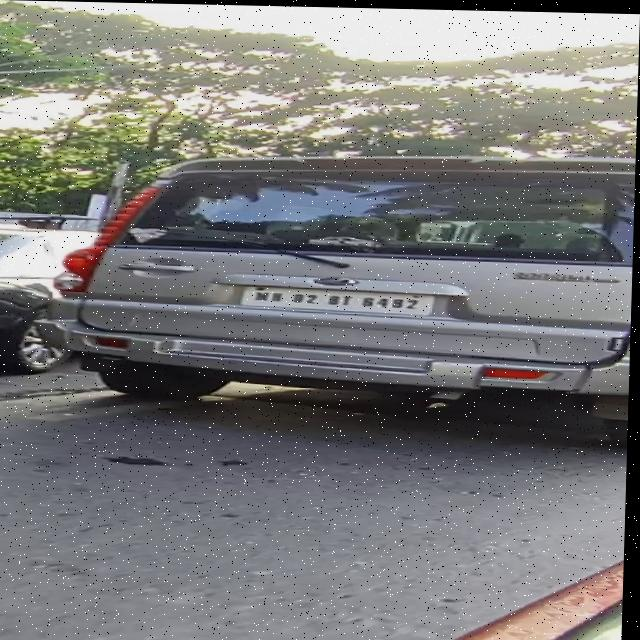plate: (226, 278, 451, 319)
